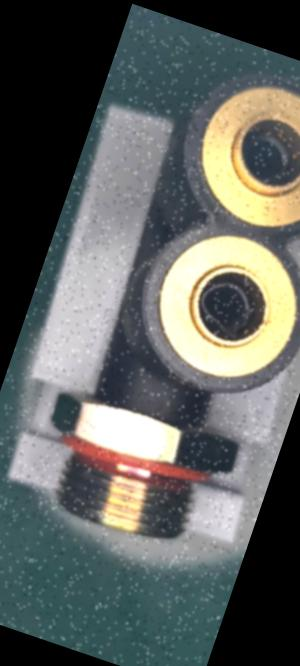bump: (187, 88, 214, 124), (289, 294, 300, 335)
off-centered: (184, 269, 263, 343)
white mark: (152, 395, 168, 416)
